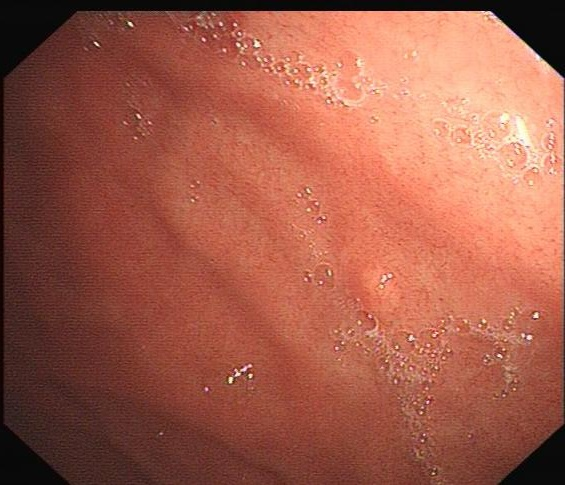Polyp: (333, 261, 420, 328)
